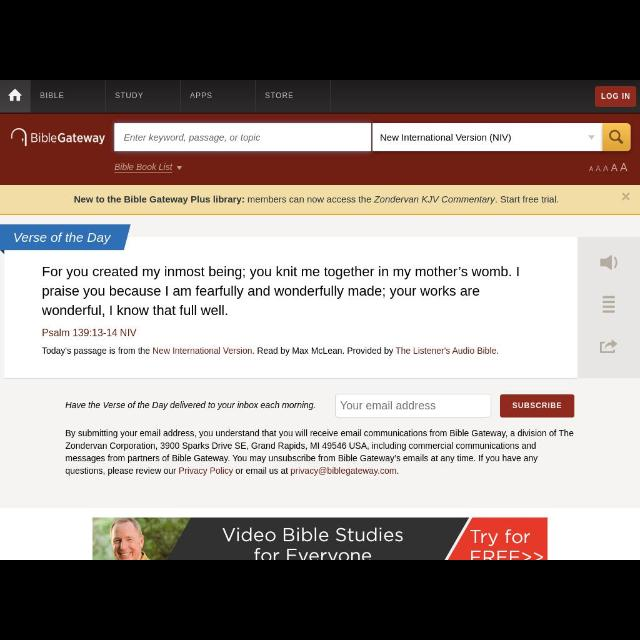button: (0, 81, 30, 112), (602, 124, 630, 152)
icon: (599, 255, 619, 271), (602, 294, 616, 314), (600, 341, 618, 354), (8, 88, 22, 104), (610, 130, 624, 146), (621, 191, 631, 201), (175, 165, 182, 171), (589, 134, 595, 140)
iframe: (92, 517, 548, 559)
image: (11, 126, 27, 148)
input: (115, 123, 372, 151), (336, 394, 490, 416)
spinner: (372, 123, 602, 151), (114, 162, 182, 172)
text: (42, 266, 522, 316), (65, 430, 572, 476), (73, 195, 559, 205), (41, 347, 501, 357), (66, 401, 316, 412), (122, 132, 262, 146), (379, 132, 511, 144), (14, 232, 112, 245), (31, 131, 107, 147), (340, 400, 438, 412), (42, 328, 136, 340), (113, 162, 173, 172), (511, 400, 561, 410), (590, 162, 628, 174), (114, 90, 144, 100), (600, 92, 630, 101), (39, 91, 65, 99), (265, 92, 293, 98), (190, 92, 212, 98)
textbutton: (180, 81, 256, 113), (256, 81, 332, 113), (31, 81, 105, 113), (106, 80, 180, 112), (595, 86, 635, 108)
